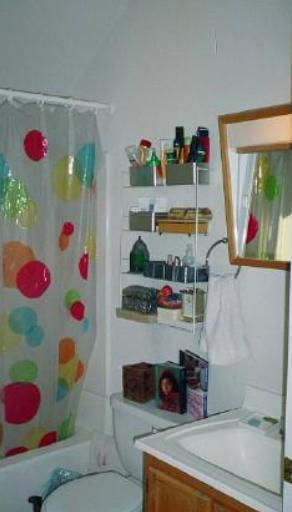Ducha: (0, 102, 99, 512)
Lavamanos: (135, 401, 280, 512)
Sanitario: (35, 401, 175, 512)
